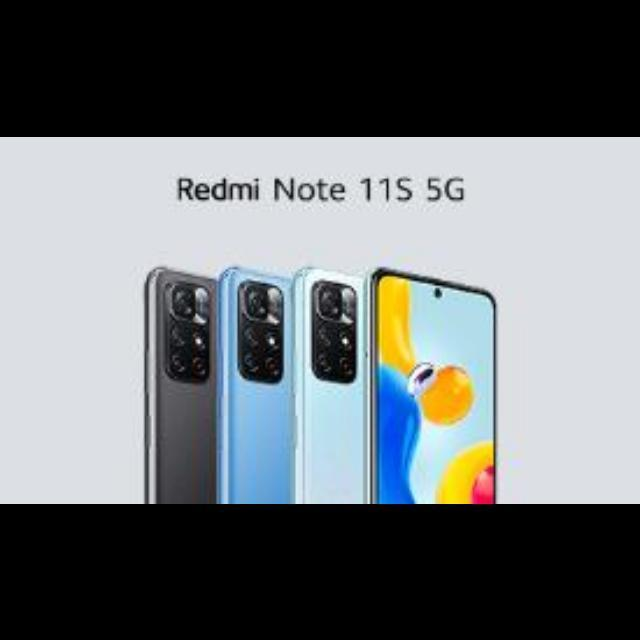PhoneUse: (366, 264, 496, 503), (289, 264, 365, 503), (142, 264, 216, 503), (217, 264, 289, 503)
